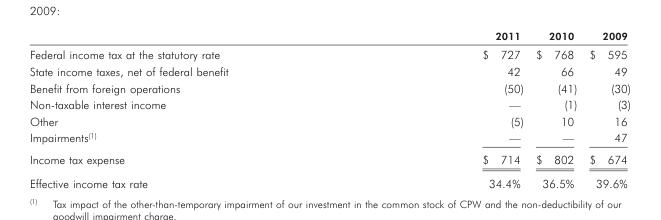table: (28, 29, 629, 189)
table column: (28, 29, 354, 189), (354, 29, 528, 189), (528, 29, 582, 189), (582, 29, 629, 189)
table column header: (28, 29, 629, 44)
table row: (28, 148, 629, 170), (28, 128, 629, 148), (28, 170, 629, 189), (28, 44, 629, 62), (28, 62, 629, 79), (28, 95, 629, 112), (28, 79, 629, 95), (28, 112, 629, 128), (28, 29, 629, 44)
